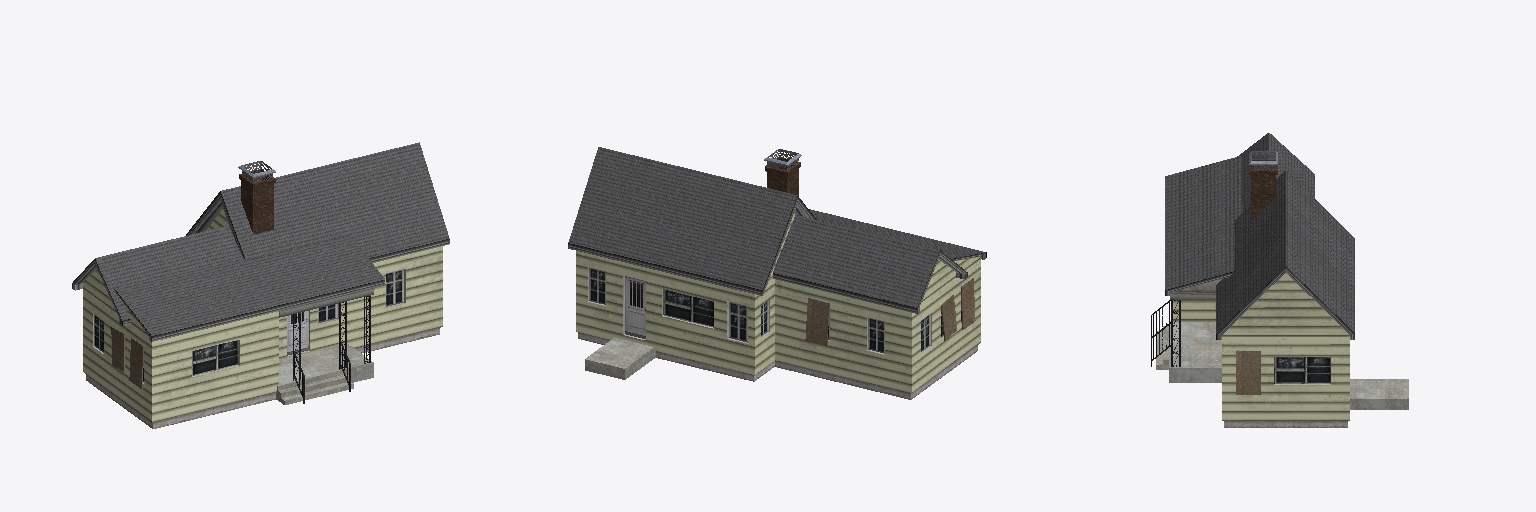
3 renders of one model, left to right at view 1: azimuth 30°, elevation 25°; view 2: azimuth 150°, elevation 25°; view 3: azimuth 270°, elevation 25°, orthographic.
Size of the model in its own units: 10.95 by 6.05 by 7.36.
1 materials, 1 textured.